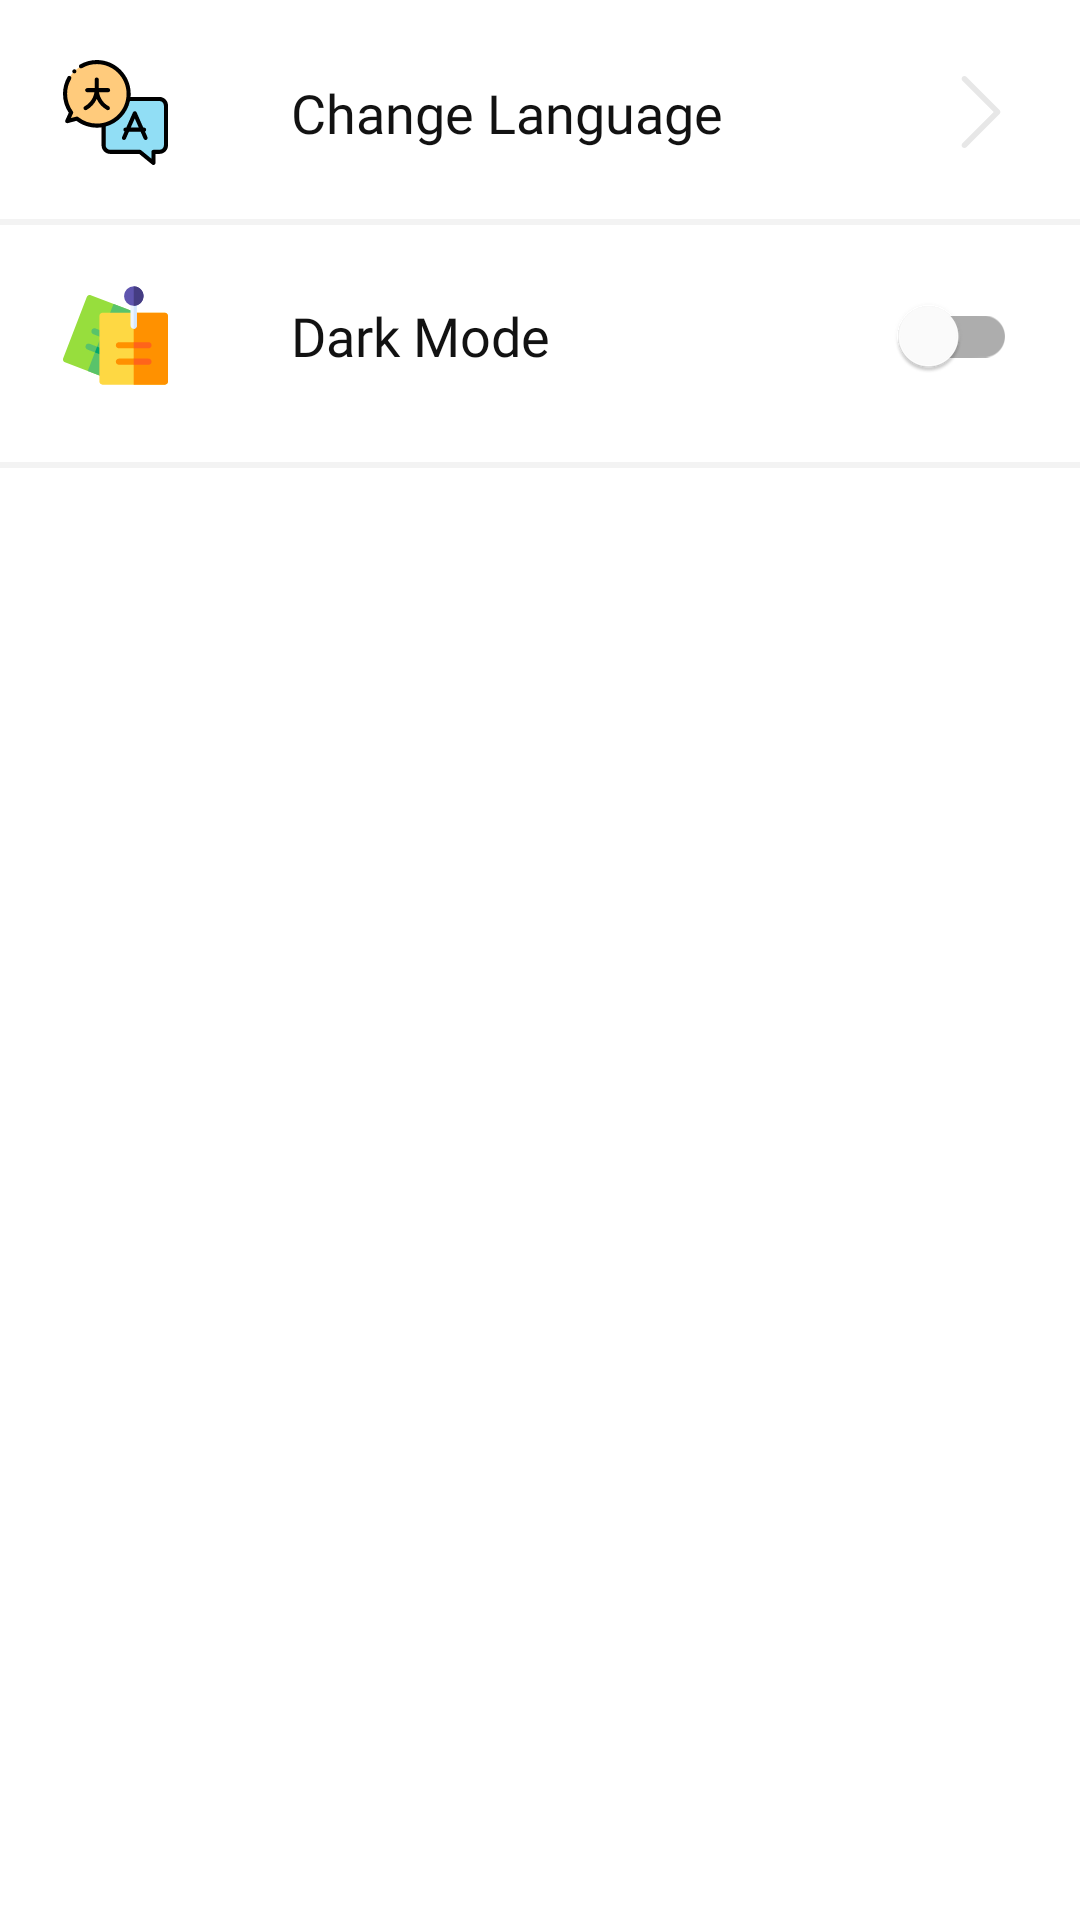

Screen size 1080×1920. Icon name, then its box in pixels as {"left": x1, "top": y1, "right": x2, "bottom": y2}:
settings language: {"left": 63, "top": 60, "right": 168, "bottom": 165}
